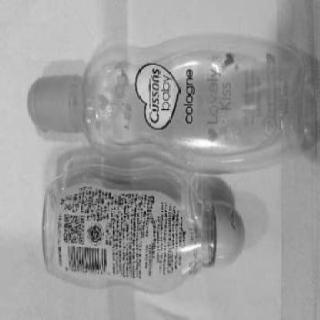objects: (28, 29, 320, 177), (42, 166, 246, 291)
